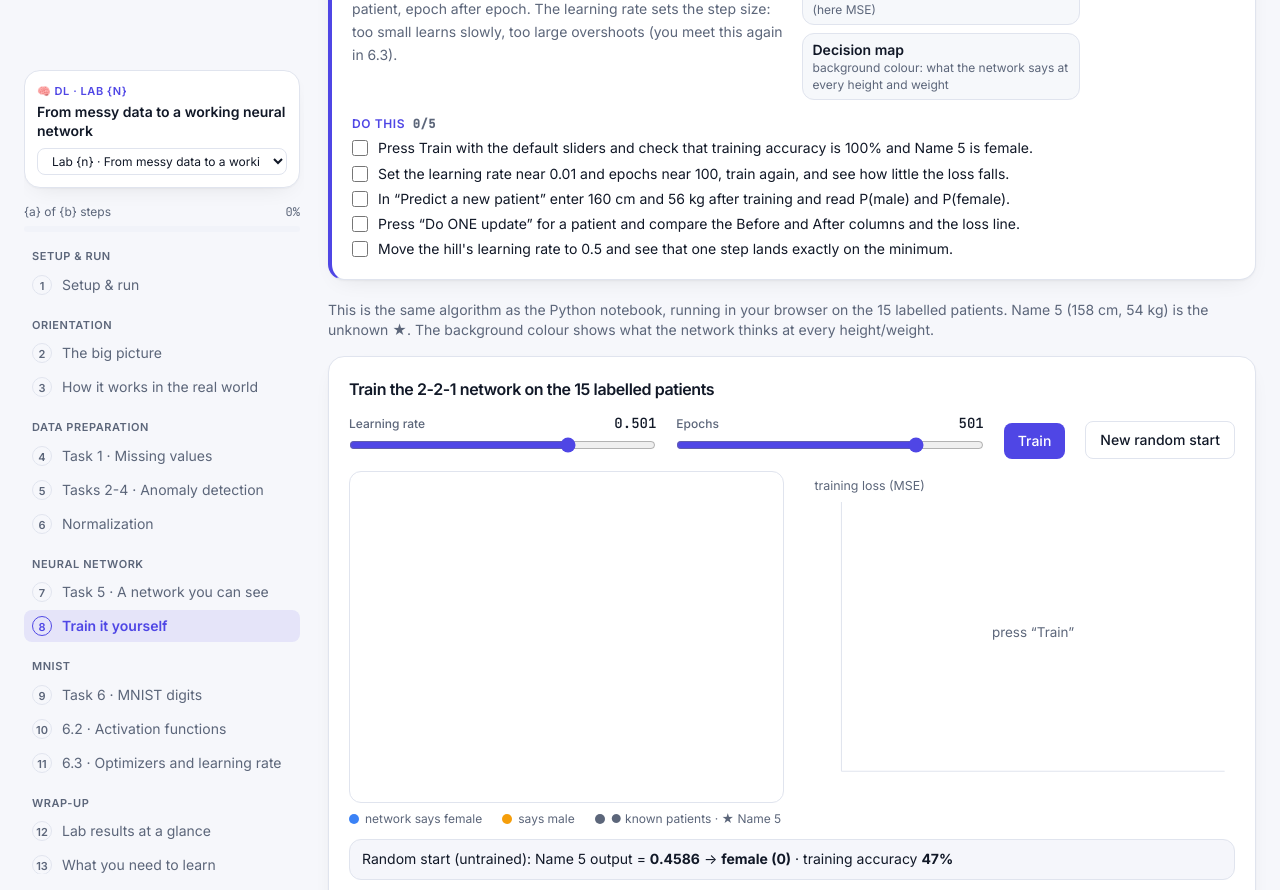
Scenario: LabPage › trains the small network in the browser and reports Name 5
(page scrolled)
Click the button "Train" at (1034, 440), box [1004,422,1065,458]
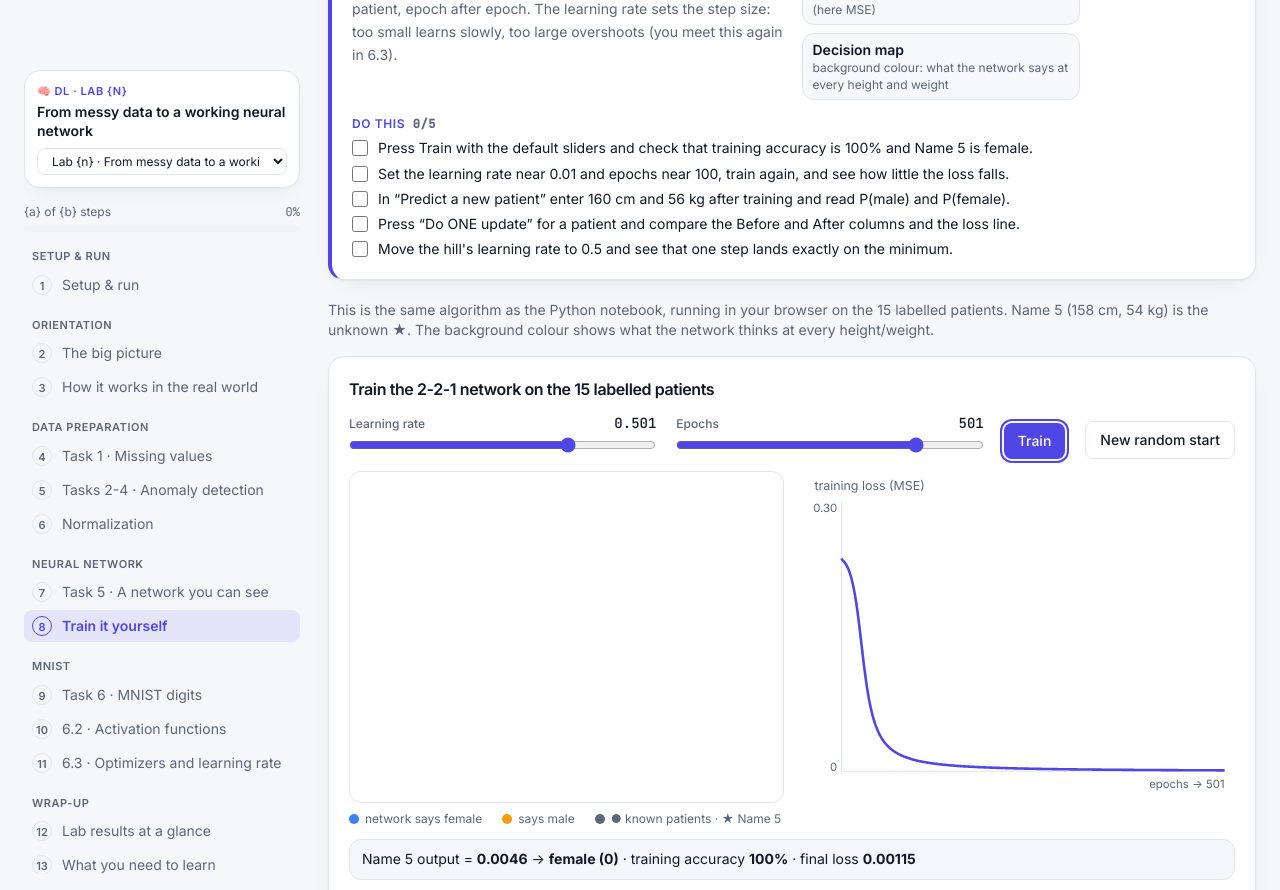
Check: the text "Name 5 output" shows "female (0)", box [549,850,619,867]
Check: the text "final loss" is shown, box [788,850,863,867]
